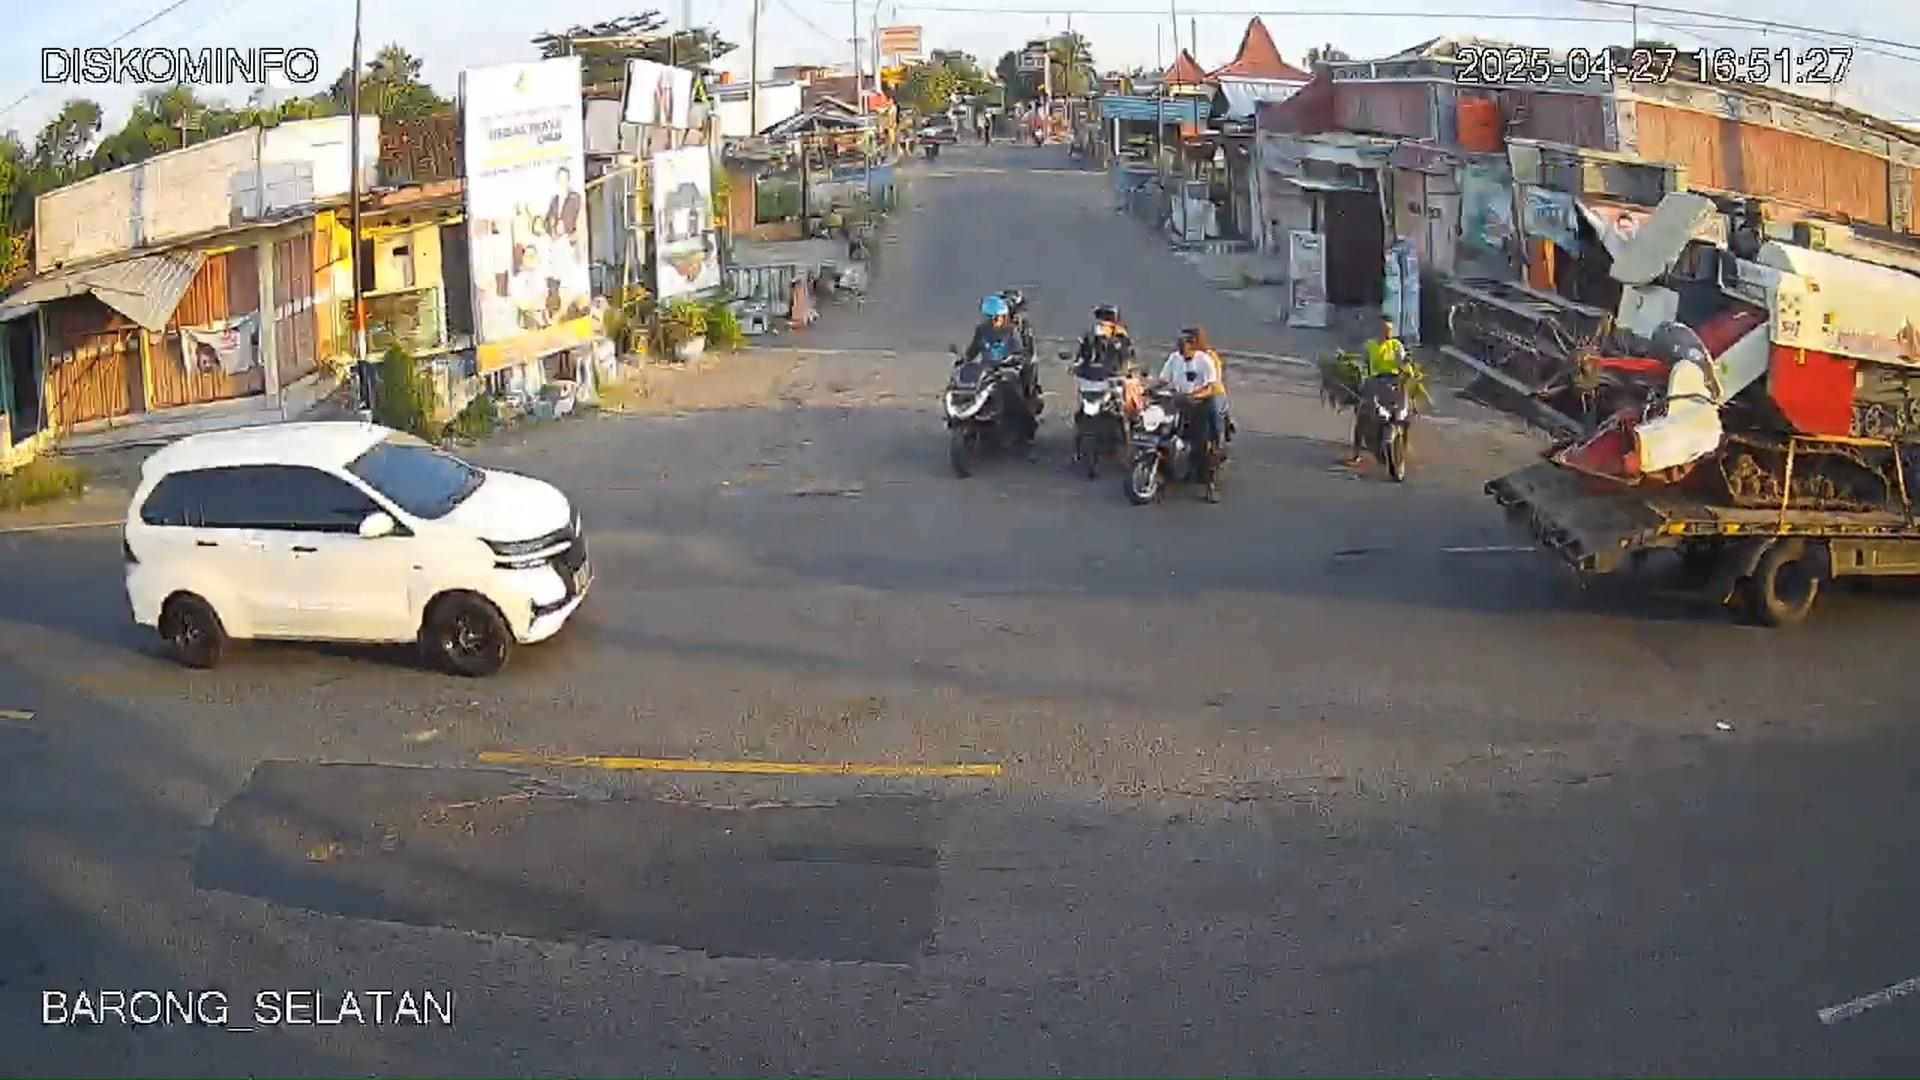Motor: (942, 316, 1050, 479), (1124, 375, 1233, 502), (1341, 347, 1415, 492), (1065, 357, 1138, 480)
Truck: (1464, 208, 1916, 626)
mobil: (123, 419, 595, 675)
